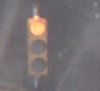Red: (25, 15, 51, 78)
